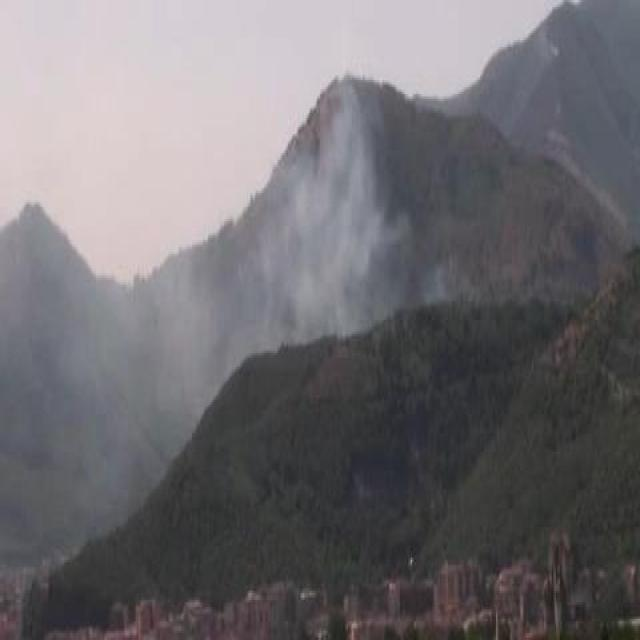Smoke: (245, 125, 386, 341), (36, 282, 209, 423)
